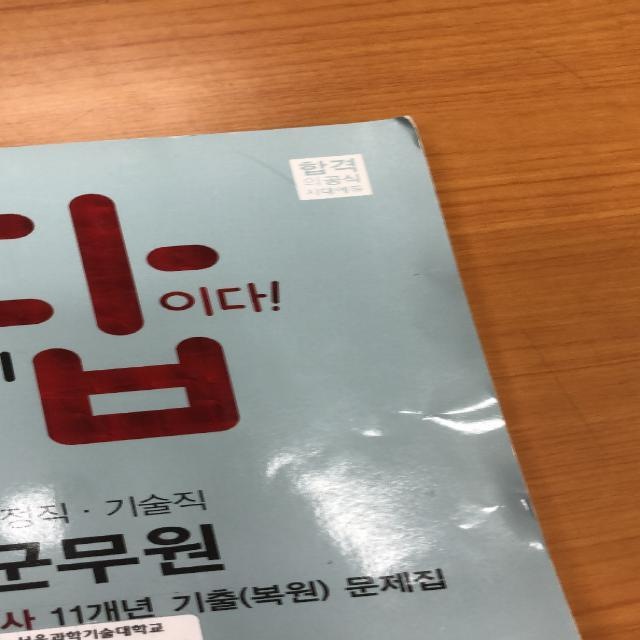Wornout: (136, 130, 208, 151), (393, 113, 428, 151)
